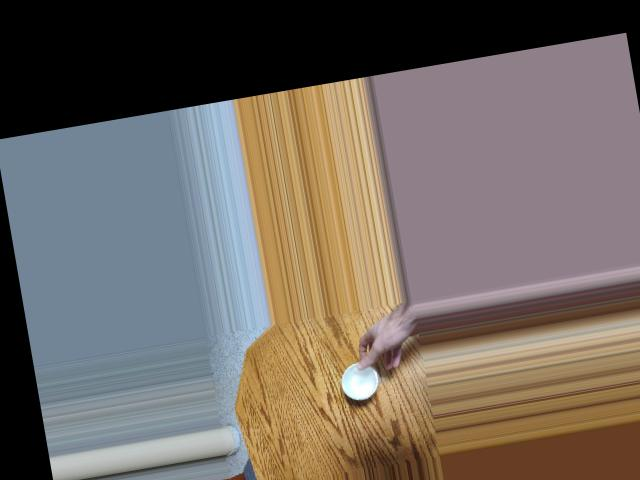cotage: (335, 359, 381, 403)
